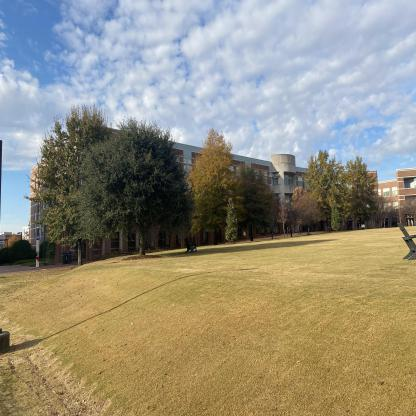EB-1: (30, 130, 379, 250)
